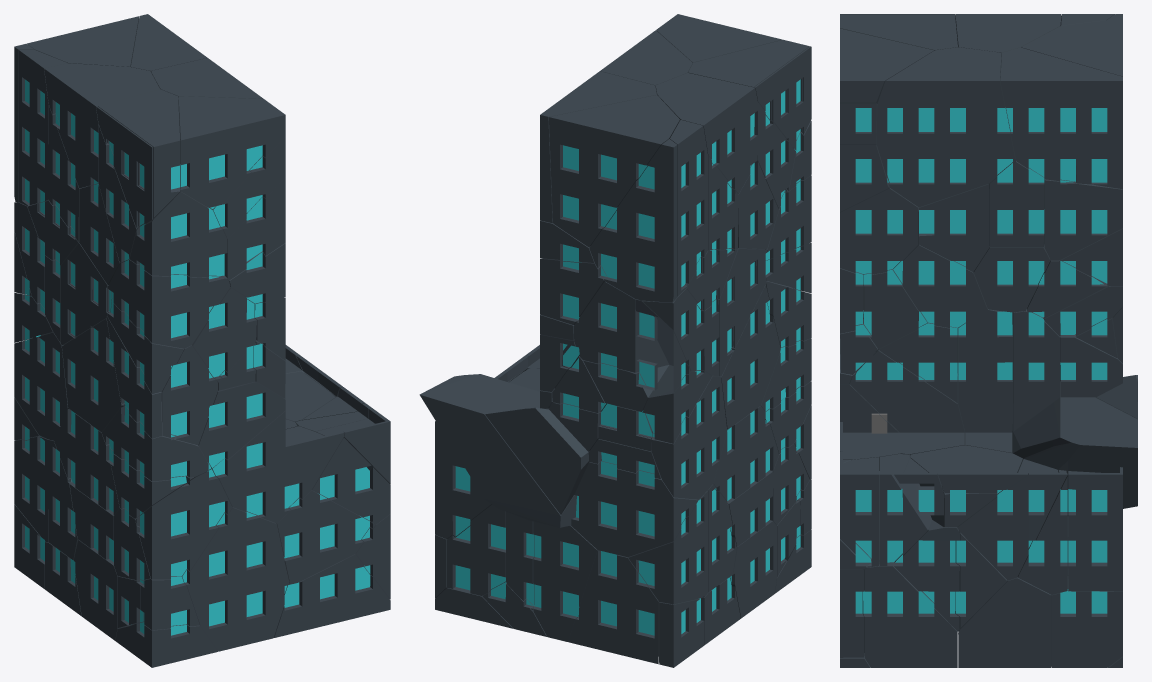
The model's file is LLShatteredCity5.fbx.
The picture shows the model from 3 angles, left to right: view 1: azimuth 30°, elevation 25°; view 2: azimuth 150°, elevation 25°; view 3: azimuth 270°, elevation 25°; orthographic projection. The views are drawn at different scales.
Parts seen in each view (by area): view 1: Cube.005_cell.059, Cube.005_cell.098, Cube.005_cell.032, Cube.005_cell.011, Cube.005_cell.078, Cube.005_cell.049, Cube.005_cell.026, Cube.005_cell.087, Cube.005_cell.092, Cube.005_cell.043, Cube.005_cell.050, Cube.005_cell.086 (+48 smaller); view 2: Cube.005_cell.045, Cube.005_cell.093, Cube.005_cell.081, Cube.005_cell.090, Cube.005_cell.009, Cube.005_cell.011, Cube.005_cell.001, Cube.005_cell.062, Cube.005_cell.082, Cube.005_cell.070, Cube.005_cell.050, Cube.005_cell.086 (+49 smaller); view 3: Cube.005_cell.053, Cube.005_cell.020, Cube.005_cell.093, Cube.005_cell.044, Cube.005_cell.077, Cube.005_cell.065, Cube.005_cell.027, Cube.005_cell.031, Cube.005_cell, Cube.005_cell.034, Cube.005_cell.014, Cube.005_cell.010 (+33 smaller).
Part boxes in pixels (x1=…): Cube.005_cell.059: x1=181, y1=507, x2=289, y2=651; Cube.005_cell.098: x1=178, y1=96, x2=285, y2=209; Cube.005_cell.032: x1=210, y1=411, x2=344, y2=523; Cube.005_cell.011: x1=44, y1=63, x2=159, y2=188; Cube.005_cell.078: x1=108, y1=259, x2=230, y2=348; Cube.005_cell.049: x1=135, y1=469, x2=232, y2=579; Cube.005_cell.026: x1=129, y1=186, x2=227, y2=278; Cube.005_cell.087: x1=276, y1=490, x2=375, y2=584; Cube.005_cell.092: x1=274, y1=554, x2=390, y2=637; Cube.005_cell.043: x1=98, y1=89, x2=180, y2=226; Cube.005_cell.050: x1=18, y1=49, x2=67, y2=205; Cube.005_cell.086: x1=62, y1=318, x2=124, y2=432; Cube.005_cell.045: x1=549, y1=95, x2=679, y2=247; Cube.005_cell.093: x1=419, y1=374, x2=576, y2=527; Cube.005_cell.081: x1=589, y1=139, x2=677, y2=302; Cube.005_cell.090: x1=571, y1=461, x2=698, y2=557; Cube.005_cell.009: x1=568, y1=550, x2=658, y2=664; Cube.005_cell.011: x1=655, y1=73, x2=757, y2=193; Cube.005_cell.001: x1=485, y1=407, x2=589, y2=514; Cube.005_cell.062: x1=533, y1=521, x2=597, y2=641; Cube.005_cell.082: x1=651, y1=375, x2=727, y2=499; Cube.005_cell.070: x1=628, y1=490, x2=707, y2=604; Cube.005_cell.050: x1=670, y1=120, x2=707, y2=296; Cube.005_cell.086: x1=718, y1=284, x2=780, y2=429; Cube.005_cell.053: x1=876, y1=47, x2=1015, y2=207; Cube.005_cell.020: x1=1000, y1=47, x2=1122, y2=189; Cube.005_cell.093: x1=1012, y1=381, x2=1137, y2=515; Cube.005_cell.044: x1=862, y1=561, x2=957, y2=667; Cube.005_cell.077: x1=958, y1=309, x2=1012, y2=452; Cube.005_cell.065: x1=958, y1=577, x2=1051, y2=667; Cube.005_cell.027: x1=850, y1=350, x2=965, y2=455; Cube.005_cell.031: x1=1068, y1=467, x2=1122, y2=590; Cube.005_cell: x1=957, y1=459, x2=1067, y2=580; Cube.005_cell.034: x1=840, y1=187, x2=918, y2=274; Cube.005_cell.014: x1=1052, y1=575, x2=1122, y2=667; Cube.005_cell.010: x1=1044, y1=179, x2=1122, y2=260.
Bounding box in the file's own units: 99.34 × 200 × 101.
